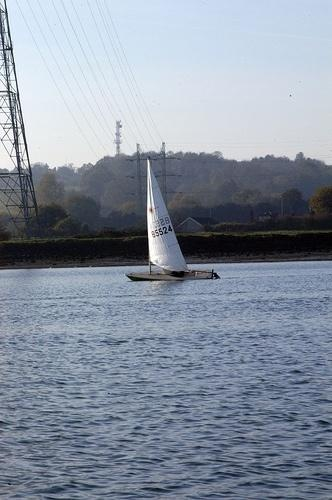boat: (126, 159, 215, 284)
